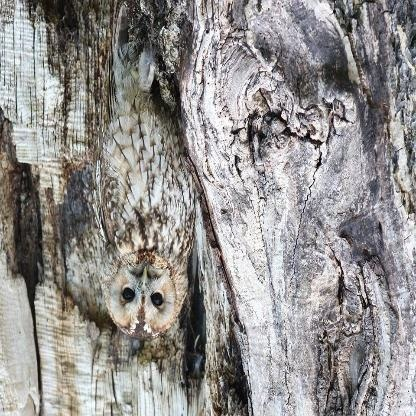Owl: (95, 58, 198, 332)
